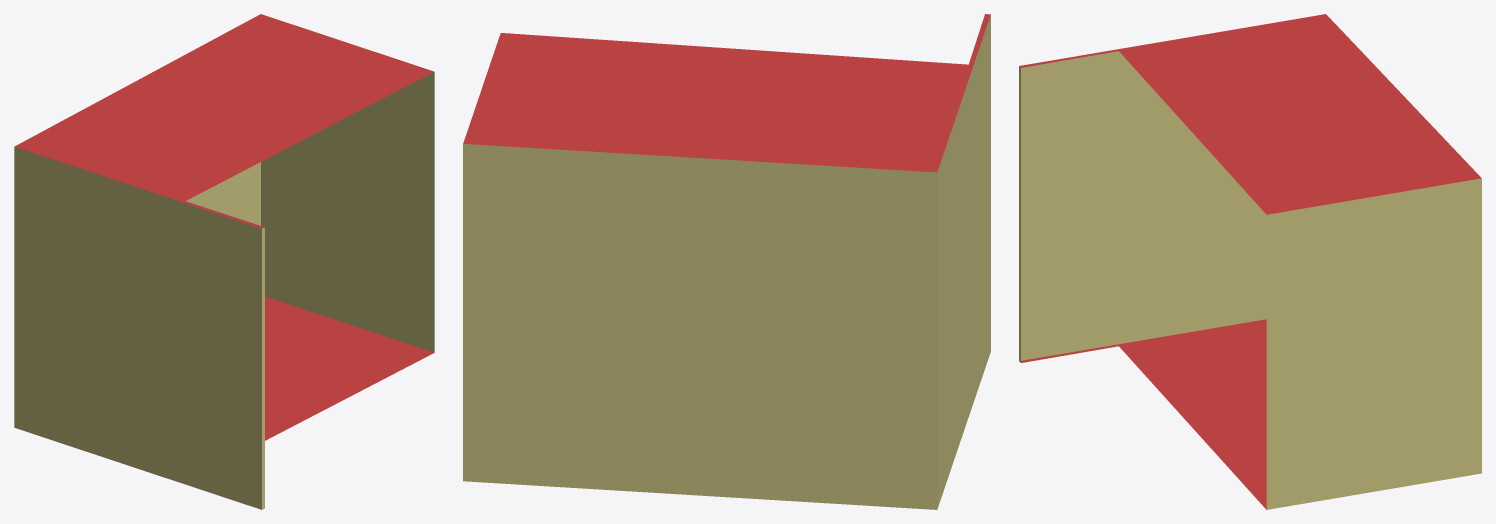
3 renders of one model, left to right at view 1: azimuth 30°, elevation 25°; view 2: azimuth 150°, elevation 25°; view 3: azimuth 270°, elevation 25°, orthographic. The views are drawn at different scales.
Size of the model in its own units: 8.96 by 8.73 by 6.14.
